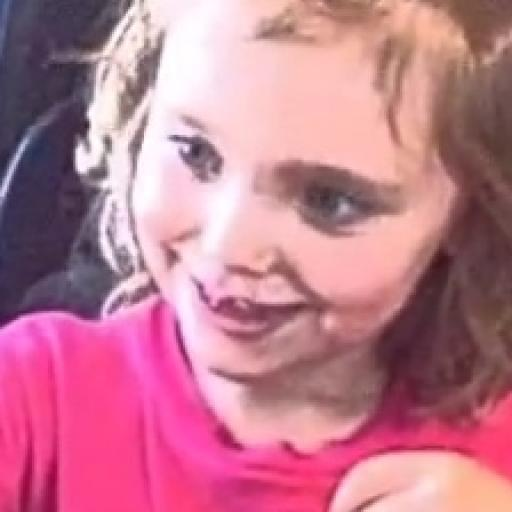Autism: (96, 0, 512, 430)
